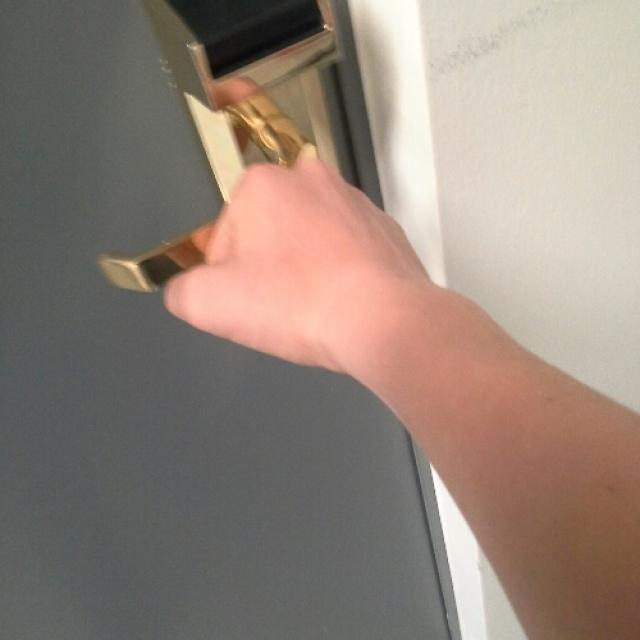fist: (167, 160, 413, 368)
